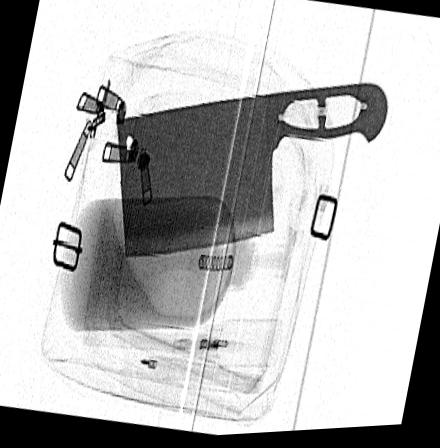Knife: (115, 85, 388, 259)
